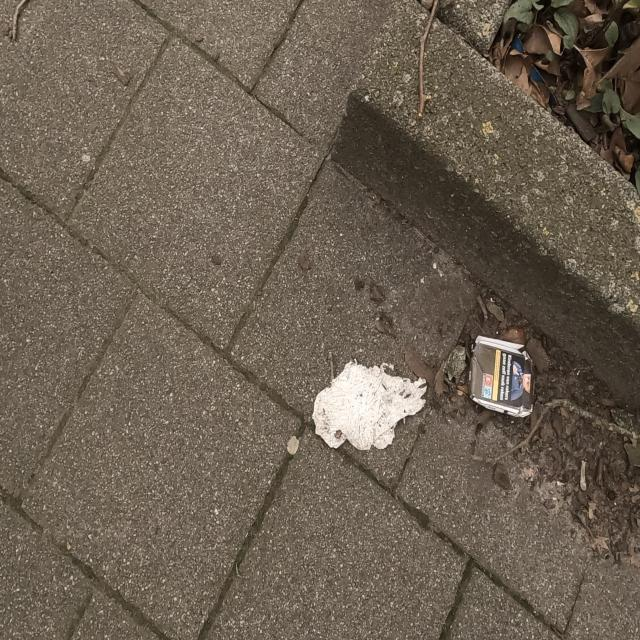Paper: (310, 356, 428, 452), (468, 332, 536, 420)
